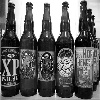beer: (20, 4, 42, 100)
